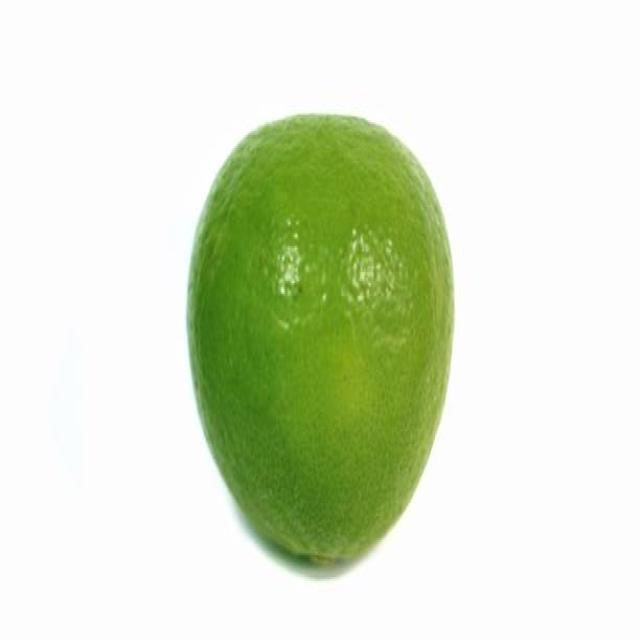Unripe: (185, 110, 456, 571)
